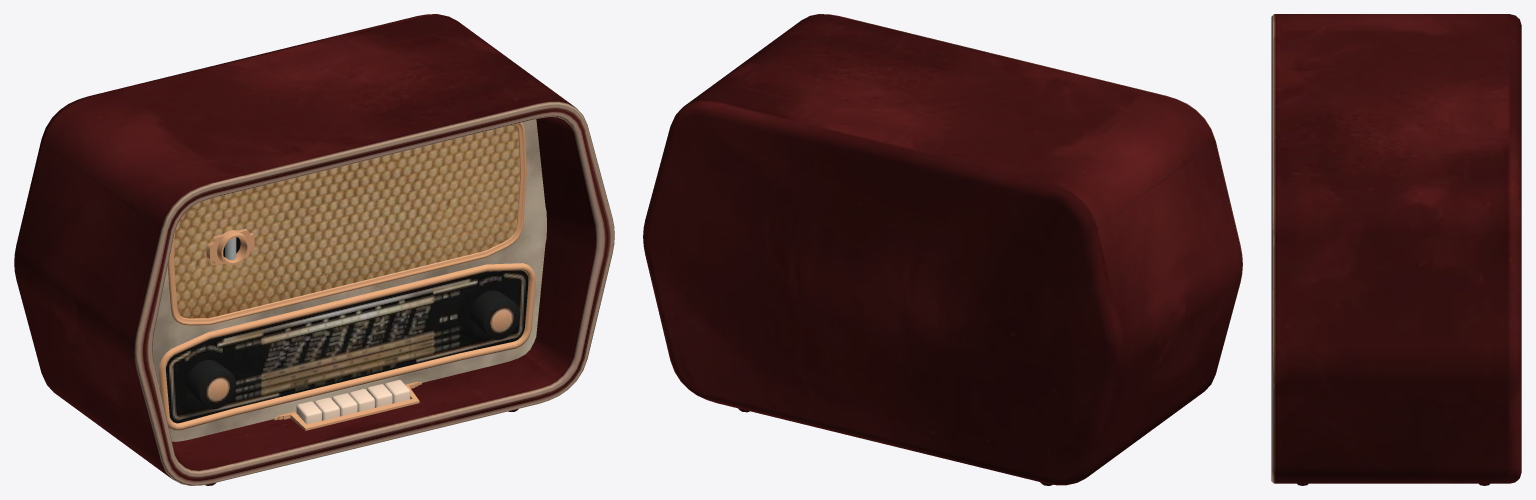
Rendered from retro_radio.glb.
3 renders of one model, left to right at view 1: azimuth 30°, elevation 25°; view 2: azimuth 150°, elevation 25°; view 3: azimuth 270°, elevation 25°, orthographic.
Parts seen in each view (by area): view 1: Radio_Low; view 2: Radio_Low; view 3: Radio_Low.
Part boxes in pixels (box(x1,y1,x2,y2)): Radio_Low: box(14, 14, 614, 485); Radio_Low: box(643, 14, 1242, 485); Radio_Low: box(1271, 14, 1521, 485).
Bounding box in the file's own units: 331 × 207 × 151.
Materials: 1 (1 with a texture image).
